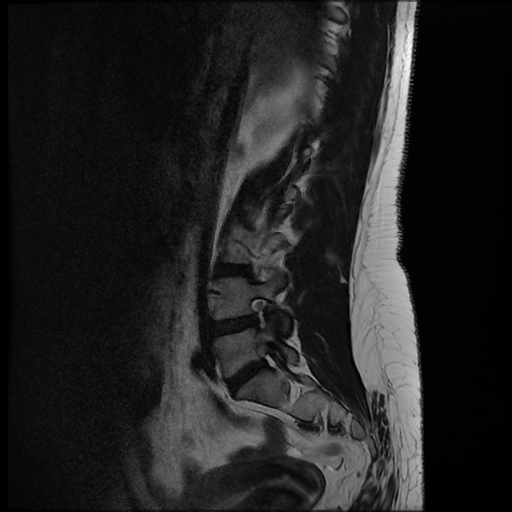RFS1: (241, 288, 276, 337)
